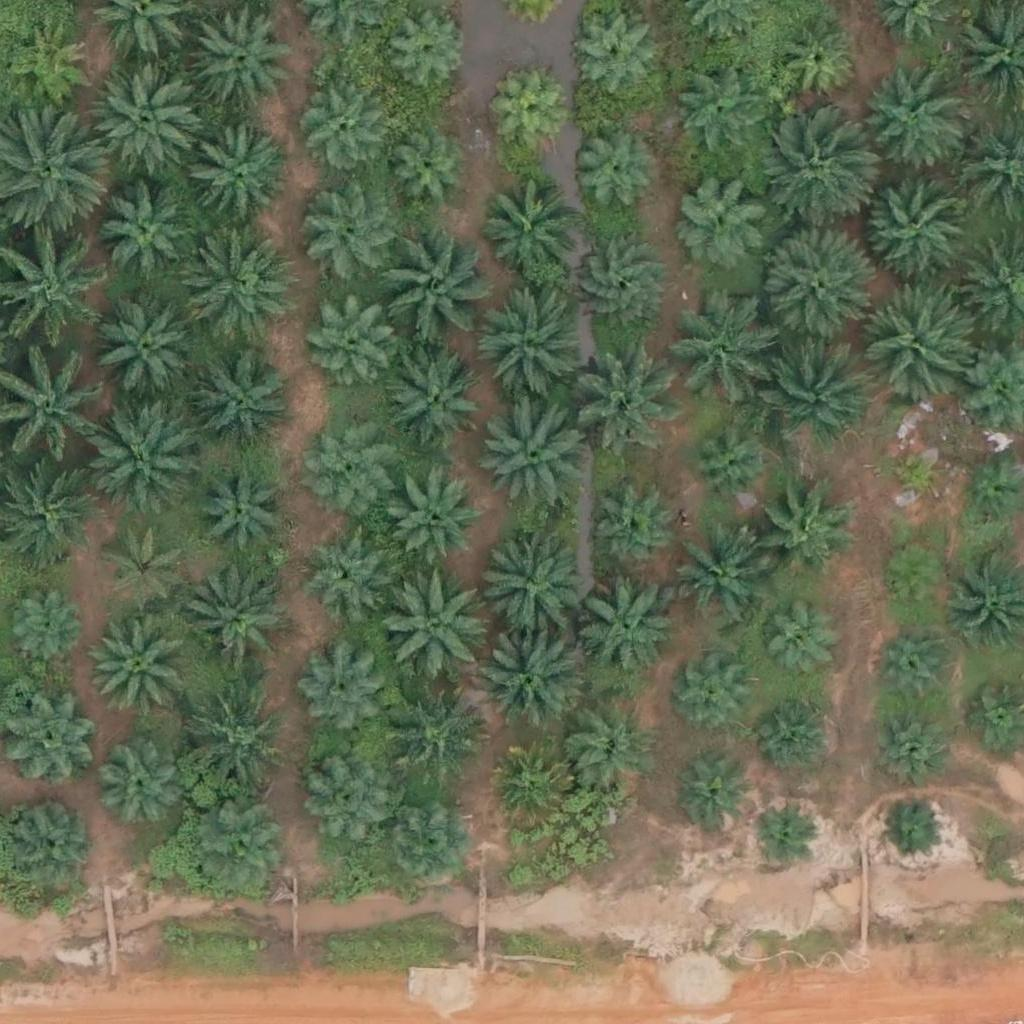Kelapa_Sawit: (471, 395, 584, 509), (860, 167, 973, 280), (757, 228, 870, 341), (476, 622, 589, 735), (468, 526, 581, 639), (180, 125, 293, 238), (181, 234, 294, 347), (91, 291, 204, 404), (757, 330, 869, 444), (474, 291, 586, 405), (376, 568, 488, 682), (853, 68, 965, 181), (858, 285, 970, 398), (755, 119, 867, 232), (568, 336, 680, 449), (372, 230, 484, 343), (176, 691, 288, 804), (92, 69, 204, 182), (89, 407, 201, 520), (751, 482, 851, 583), (665, 531, 765, 632), (665, 303, 765, 404), (575, 579, 675, 680), (478, 179, 578, 280), (381, 347, 481, 448), (383, 684, 483, 785), (302, 184, 402, 285), (191, 4, 291, 105), (185, 577, 285, 678), (98, 184, 198, 285), (89, 617, 189, 718), (672, 169, 772, 269), (570, 237, 670, 337), (194, 804, 294, 904), (192, 352, 291, 453), (864, 704, 952, 792), (483, 742, 571, 830), (772, 18, 860, 106), (686, 420, 774, 508), (567, 11, 655, 99), (393, 480, 481, 568), (295, 648, 383, 736), (293, 83, 381, 171), (9, 792, 97, 880), (672, 68, 759, 157), (306, 755, 393, 844), (104, 523, 191, 612), (874, 623, 961, 711), (569, 127, 656, 215), (591, 489, 678, 577), (568, 709, 655, 797), (385, 7, 472, 95), (382, 131, 469, 219), (384, 801, 471, 889), (296, 526, 383, 614), (305, 414, 392, 502), (308, 299, 395, 387), (199, 465, 286, 553), (3, 586, 90, 674), (101, 745, 188, 833), (5, 21, 92, 109), (757, 606, 832, 682), (759, 694, 834, 770), (877, 541, 952, 617), (491, 77, 566, 153), (677, 661, 752, 736), (675, 761, 750, 836), (748, 802, 811, 865), (881, 798, 943, 861), (884, 442, 946, 505)
